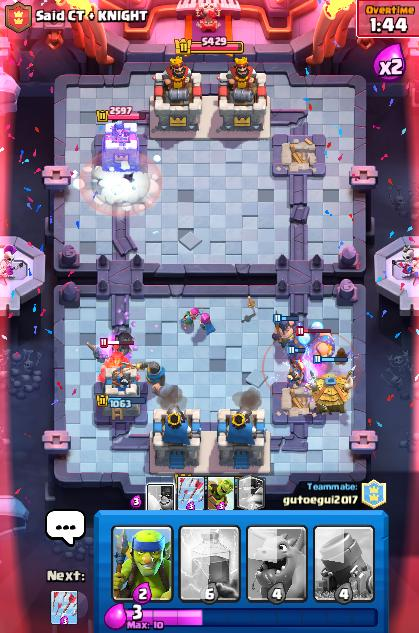EElectroG: (306, 322, 334, 371)
EKingTower: (218, 57, 266, 130), (154, 56, 201, 130)
EMegaKnight: (102, 345, 129, 368)
EnemyPrincessTower: (102, 121, 137, 170)
OArcher: (182, 308, 198, 330), (200, 312, 214, 334)
OEx: (274, 315, 295, 347)
OGoblinHut: (311, 374, 350, 412)
OKnight: (146, 361, 164, 394)
OPrincess: (287, 358, 303, 386)
OwnKingTower: (150, 407, 200, 472), (218, 410, 269, 470)
OwnPrincessTower: (95, 364, 146, 422)
TowerDown: (272, 382, 325, 424), (274, 134, 325, 176)
